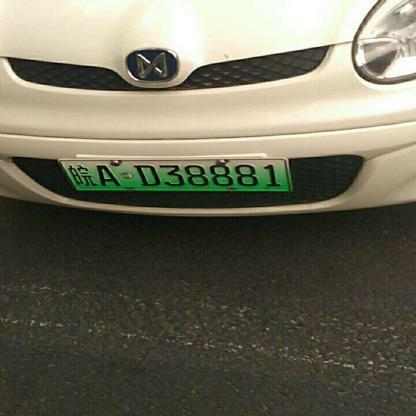lp: (59, 160, 289, 190)
